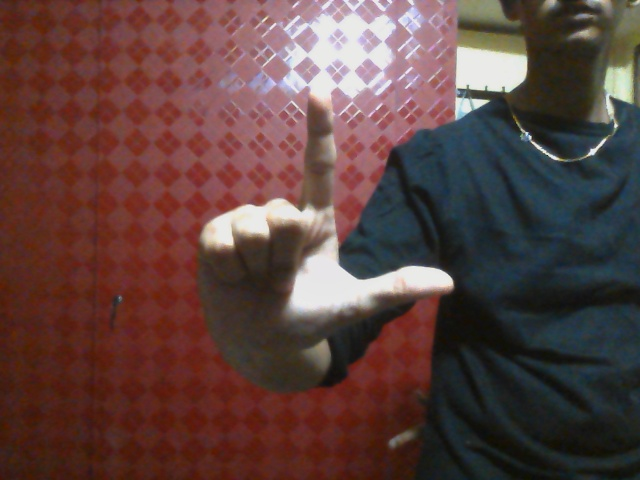L: (199, 86, 456, 336)
